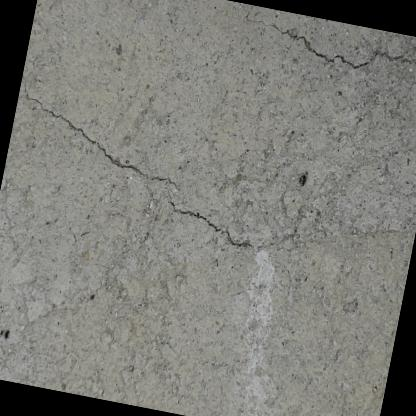crack: (29, 95, 177, 190), (271, 23, 416, 69), (170, 202, 253, 250)
